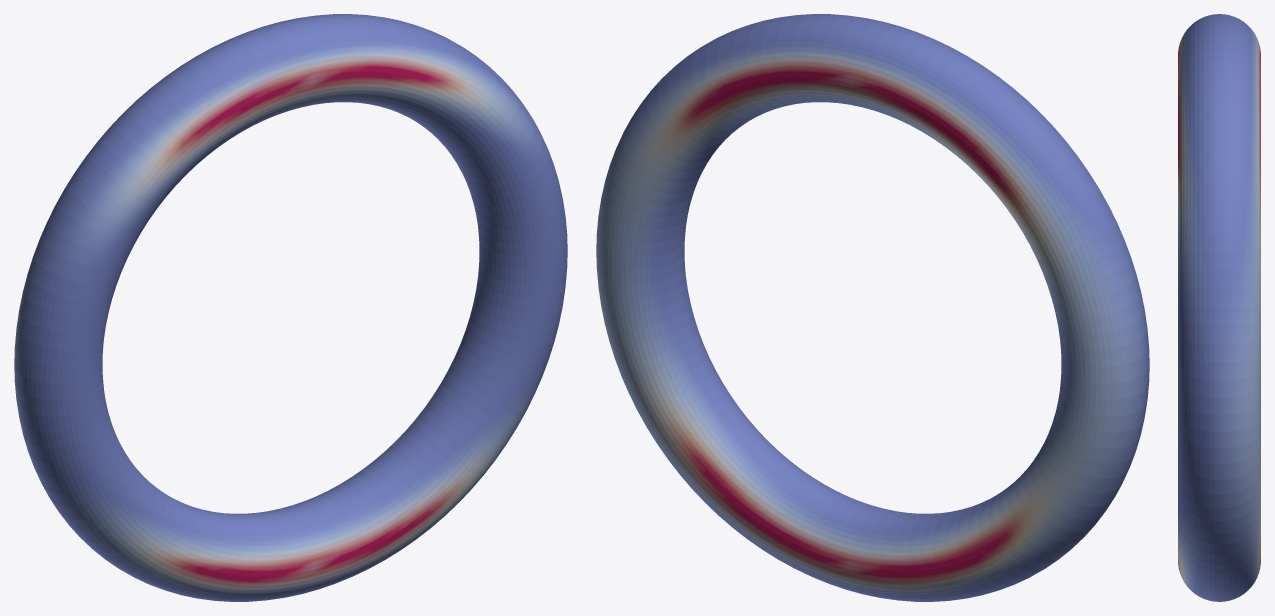
The picture shows the model from 3 angles, left to right: view 1: azimuth 30°, elevation 25°; view 2: azimuth 150°, elevation 25°; view 3: azimuth 270°, elevation 25°; orthographic projection. The views are drawn at different scales.
Visible parts, largest first — view 1: world; view 2: world; view 3: world.
Boxes of the visible parts, <box> form: world: <box>14,14,567,601</box>; world: <box>596,14,1149,601</box>; world: <box>1178,14,1260,601</box>.
Bounding box in the file's own units: 21.73 × 21.73 × 3.06.
